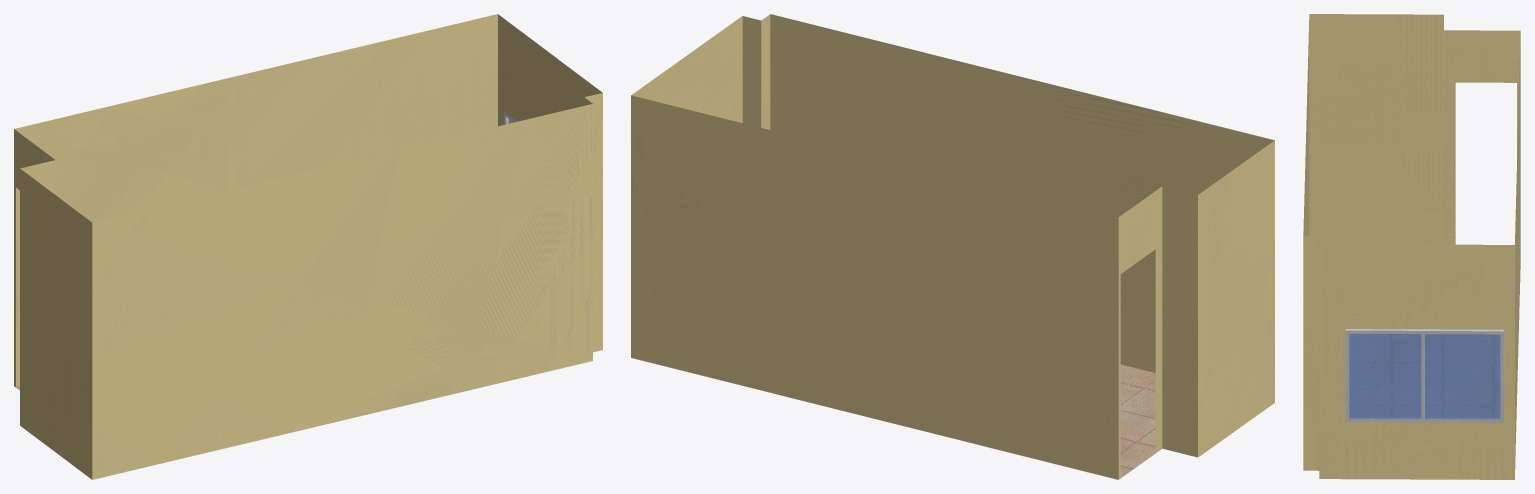
Rendered from DES007.obj.
The picture shows the model from 3 angles, left to right: view 1: azimuth 30°, elevation 25°; view 2: azimuth 150°, elevation 25°; view 3: azimuth 270°, elevation 25°; orthographic projection. The views are drawn at different scales.
Parts seen in each view (by area): view 1: Mesh6 DES007 Model; view 2: Mesh6 DES007 Model; view 3: Mesh6 DES007 Model, Mesh1 ventana2_1 DES007 Model.
Part boxes in pixels (left/top/right/bottom): Mesh6 DES007 Model: left=14, top=14, right=602, bottom=479; Mesh6 DES007 Model: left=631, top=14, right=1274, bottom=479; Mesh6 DES007 Model: left=1303, top=14, right=1520, bottom=479; Mesh1 ventana2_1 DES007 Model: left=1345, top=329, right=1503, bottom=422.
Bounding box in the file's own units: 7.64 × 3.6 × 3.02.
Materials: 8 (2 with a texture image).
